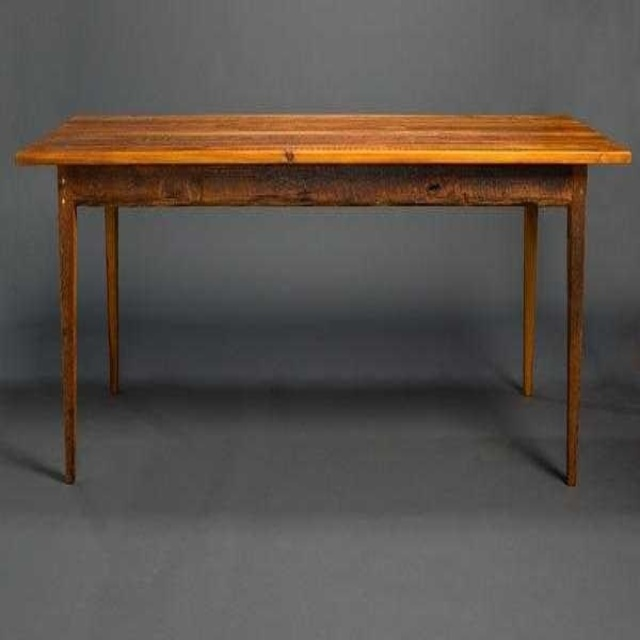obstacle: (16, 114, 630, 485)
